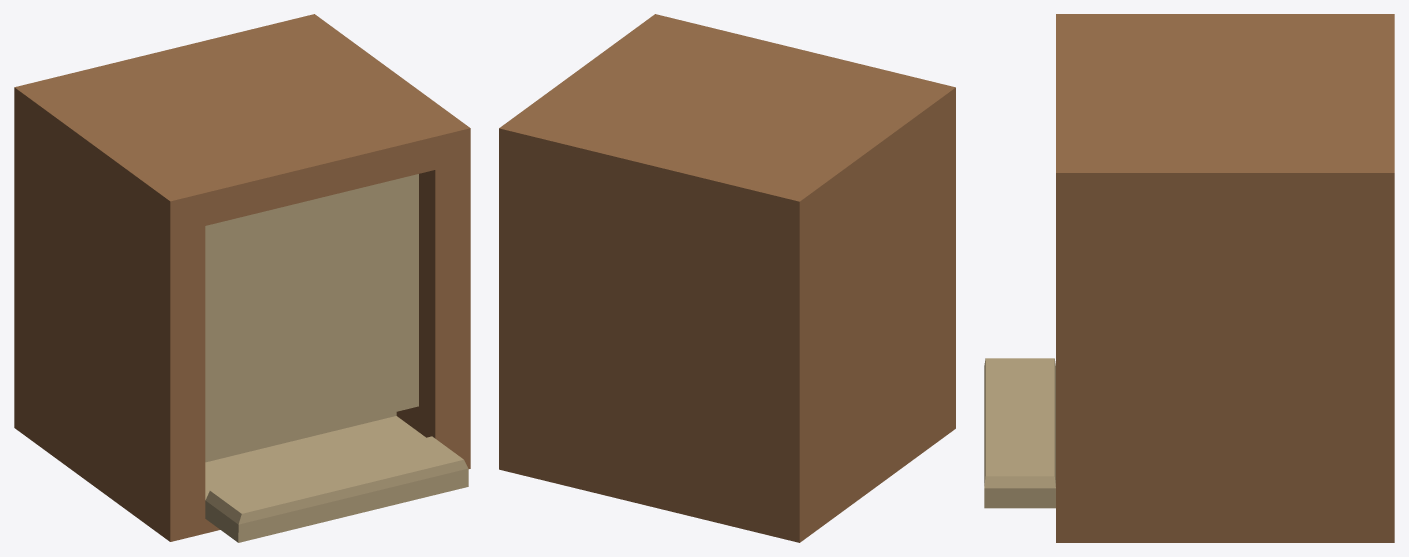
The model's file is Beehive_1.fbx.
3 views of the same model, side by side, from view 1: azimuth 30°, elevation 25°; view 2: azimuth 150°, elevation 25°; view 3: azimuth 270°, elevation 25° (orthographic). The views are drawn at different scales.
Parts seen in each view (by area): view 1: Beehive_mesh; view 2: Beehive_mesh; view 3: Beehive_mesh.
Boxes of the visible parts, left/top/right/bottom form: Beehive_mesh: left=14, top=14, right=470, bottom=542; Beehive_mesh: left=499, top=14, right=955, bottom=542; Beehive_mesh: left=984, top=14, right=1394, bottom=542.
Size of the model in its own units: 59.22 by 64.21 by 64.57.
